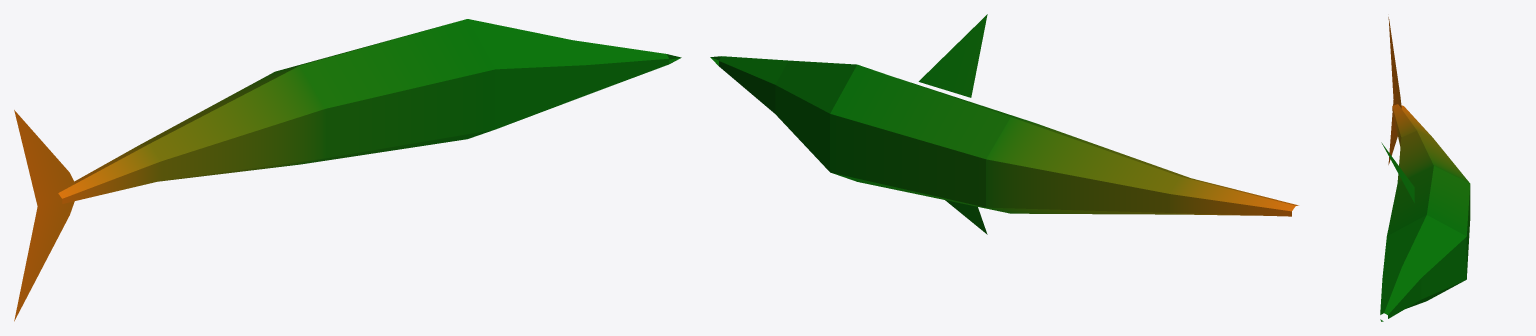
Rendered from dolphin_b_lod.glb.
3 renders of one model, left to right at view 1: azimuth 30°, elevation 25°; view 2: azimuth 150°, elevation 25°; view 3: azimuth 270°, elevation 25°, orthographic. The views are drawn at different scales.
Visible parts, largest first — view 1: dolphin_b_lod; view 2: dolphin_b_lod; view 3: dolphin_b_lod.
Part boxes in pixels (bbox=[...]): dolphin_b_lod: bbox=[14, 19, 681, 321]; dolphin_b_lod: bbox=[710, 14, 1298, 234]; dolphin_b_lod: bbox=[1380, 17, 1470, 321].
Size of the model in its own units: 1.96 by 0.64 by 0.5061.
